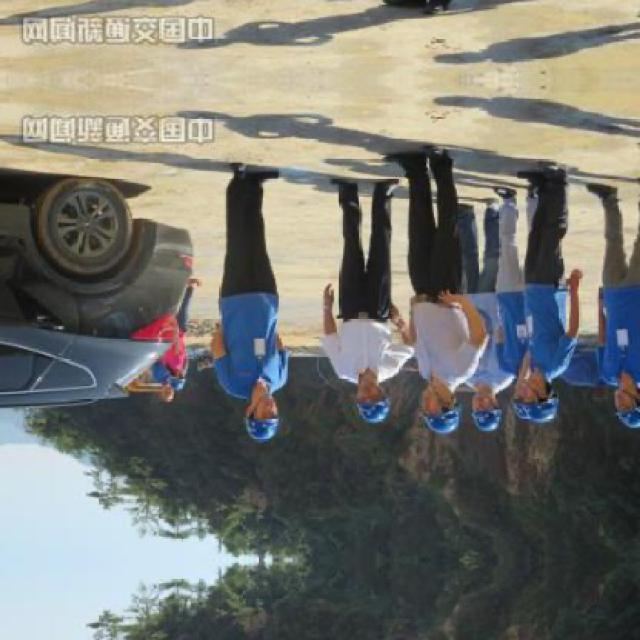con casco: (499, 334, 568, 435), (409, 368, 476, 436), (342, 368, 401, 434), (597, 363, 640, 449), (236, 388, 293, 447), (452, 383, 508, 441)
